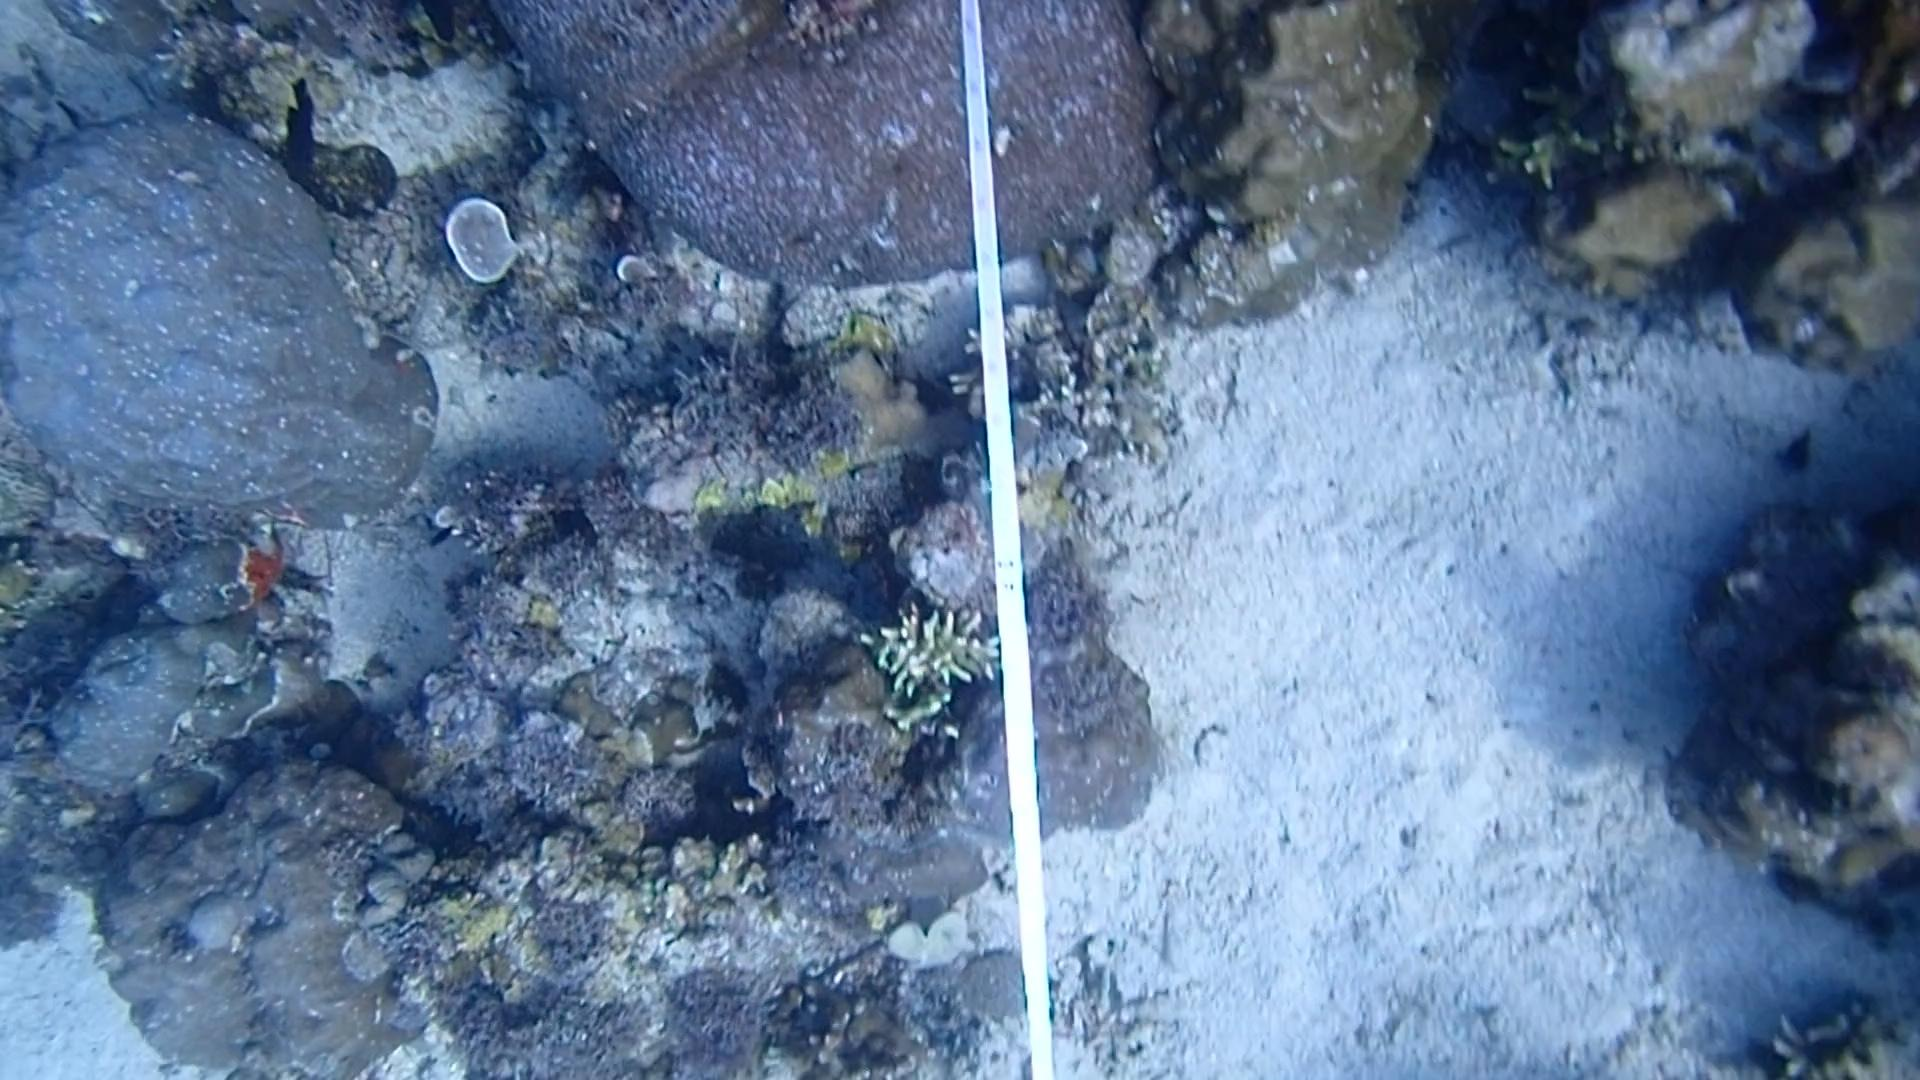Dark Fish: (266, 70, 335, 193)
